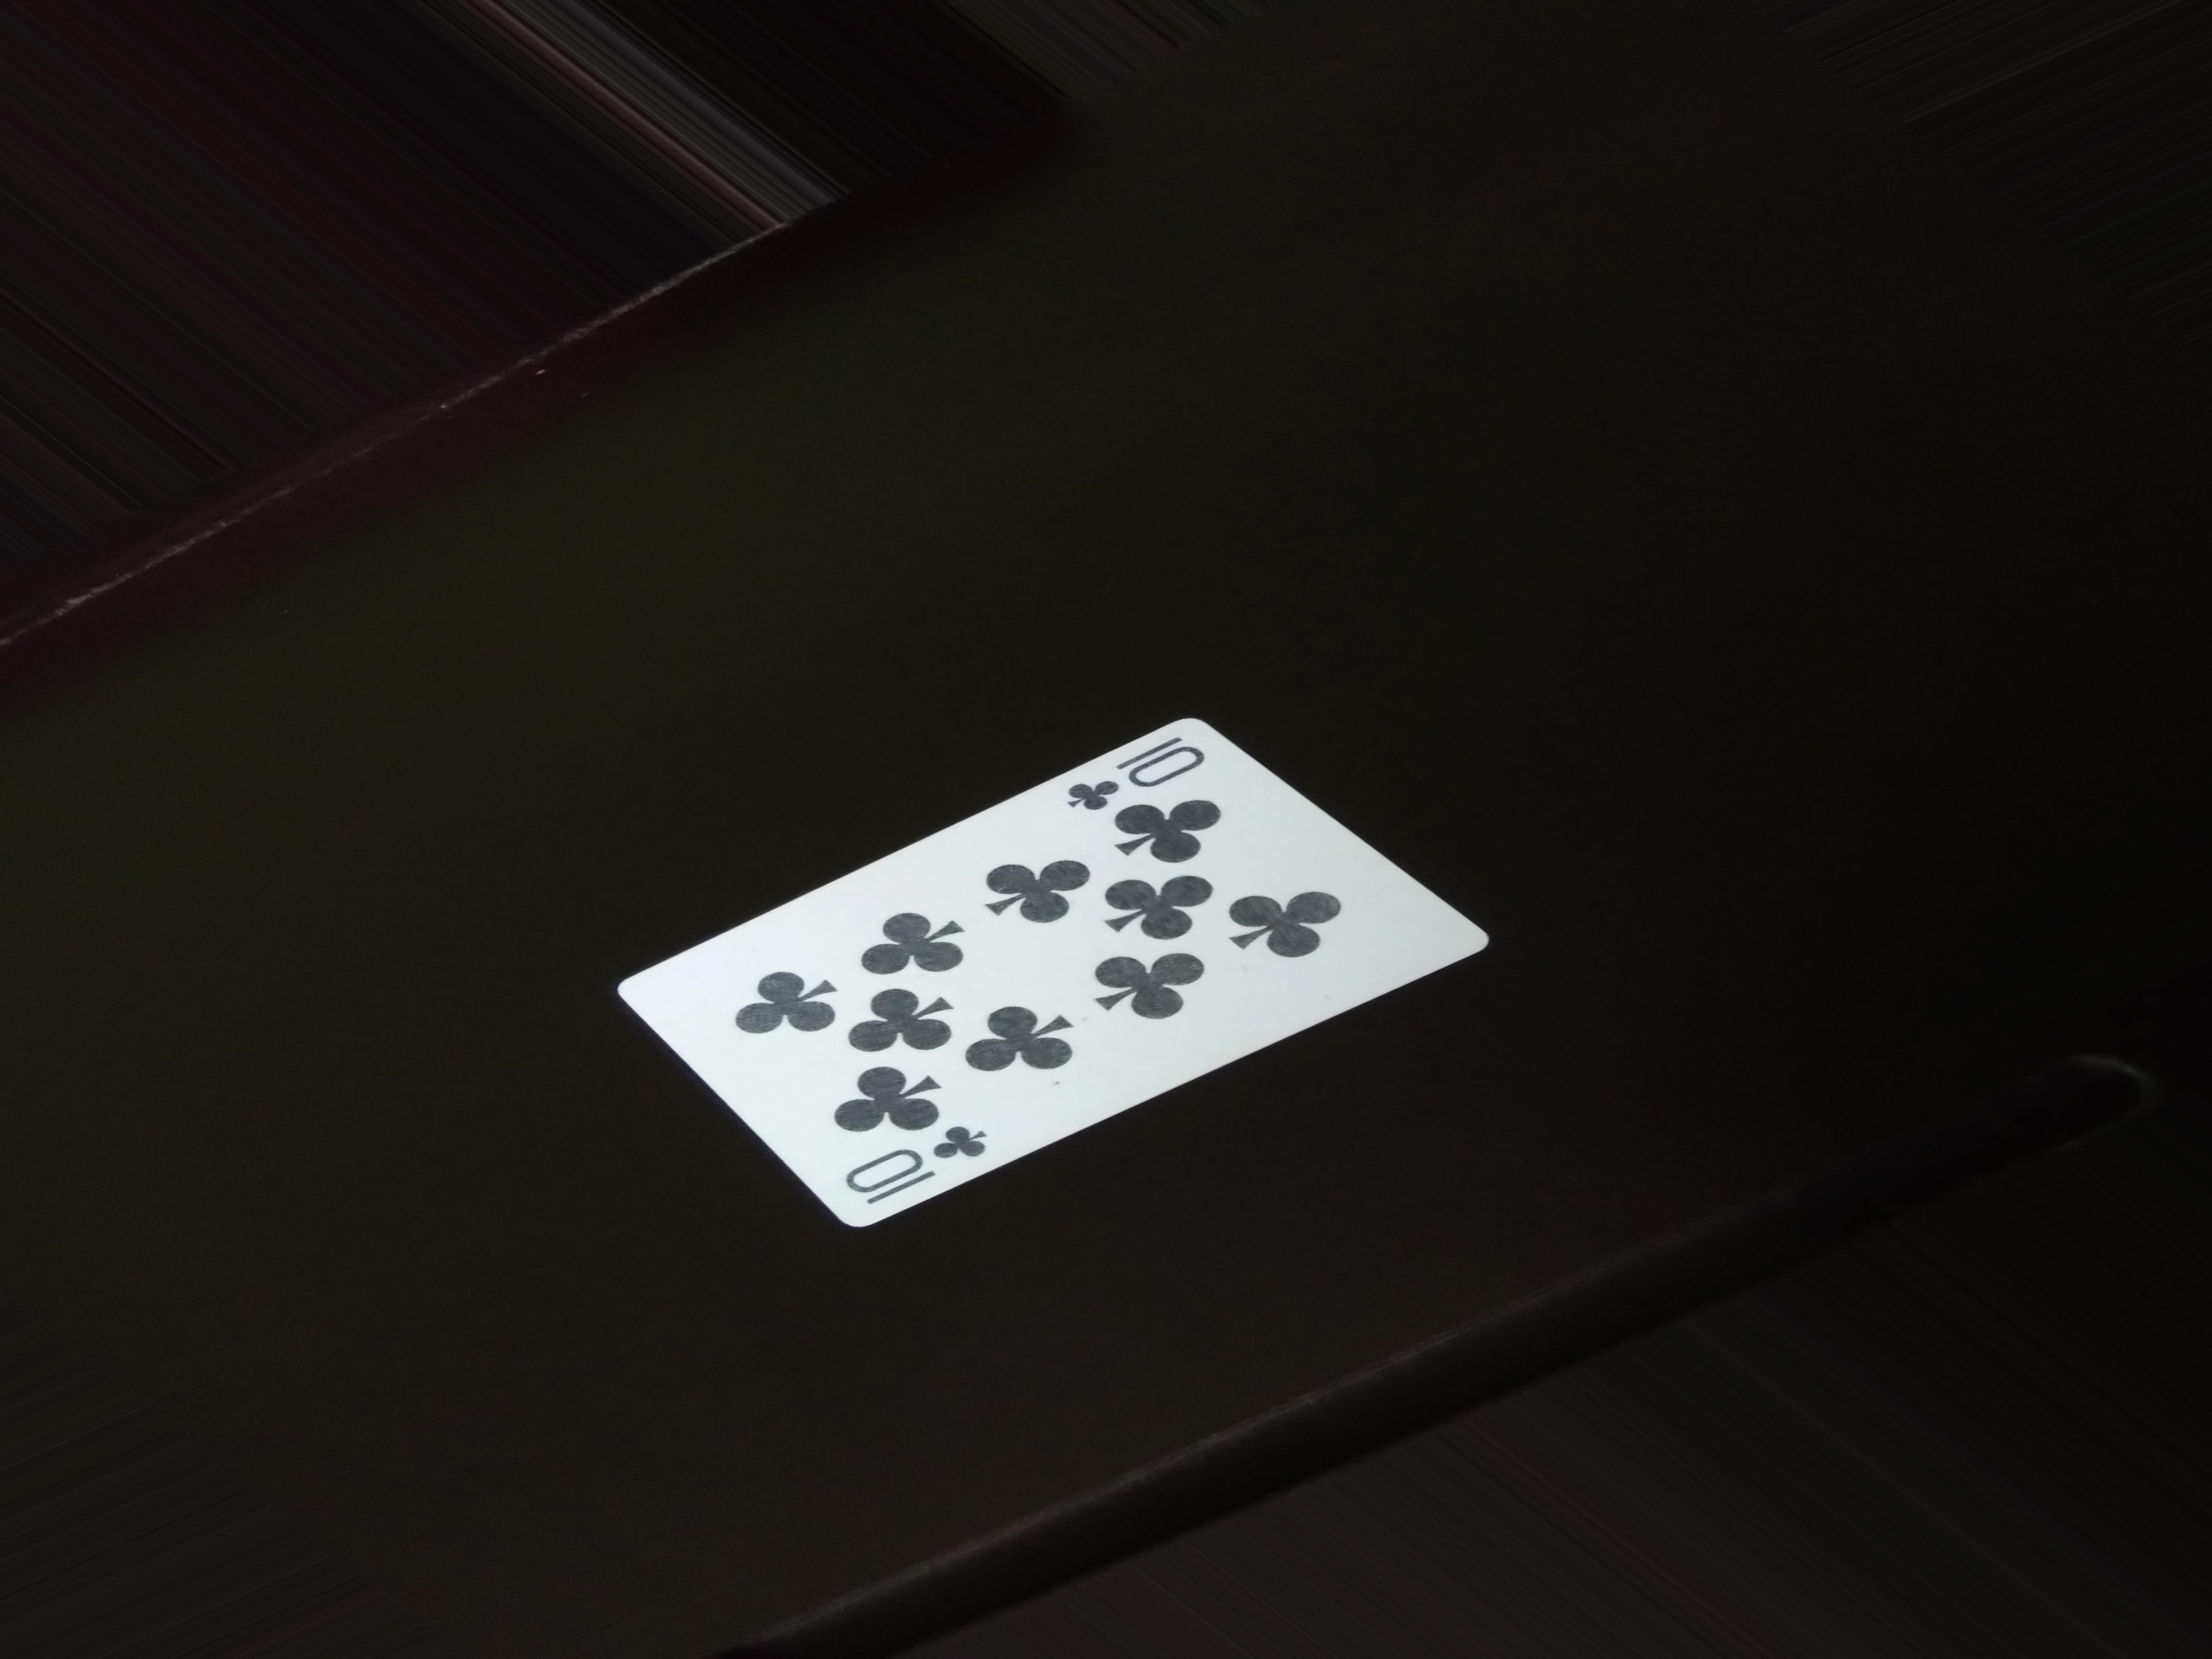10C: (1059, 716, 1193, 829)
